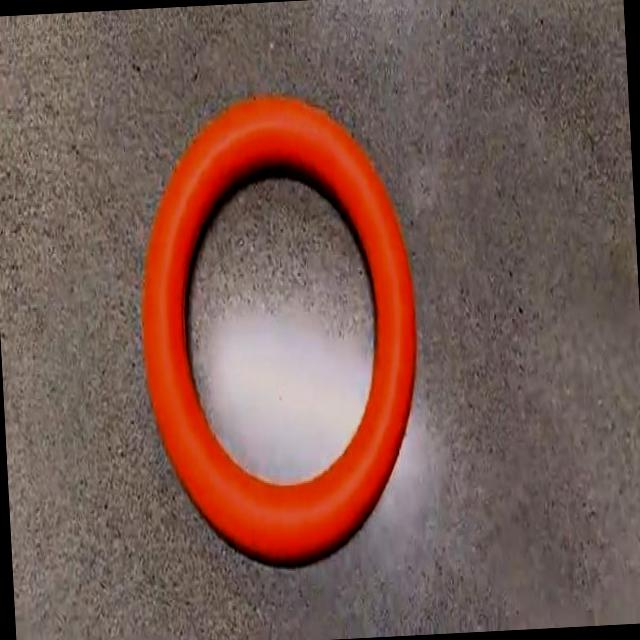note: (142, 99, 415, 561)
